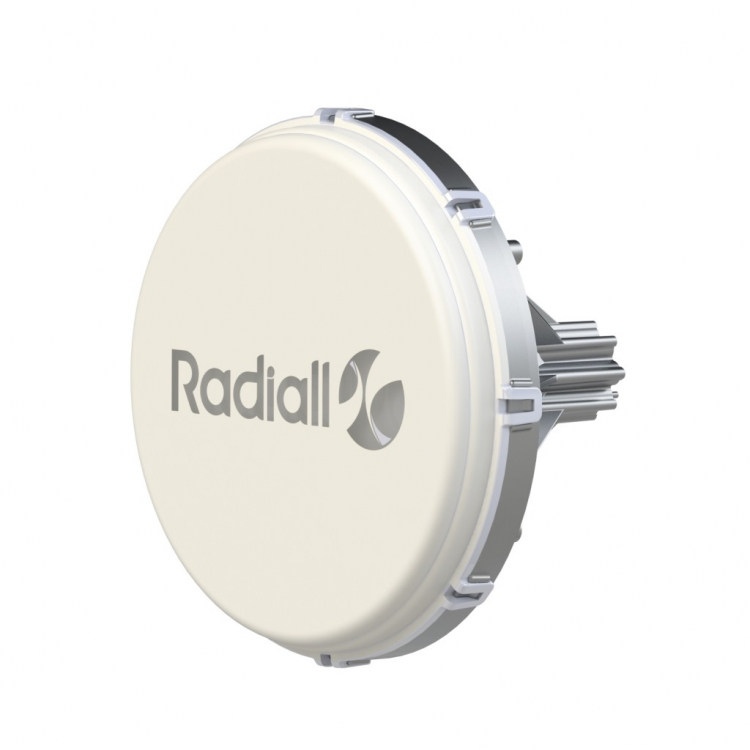ba: (111, 78, 566, 680)
